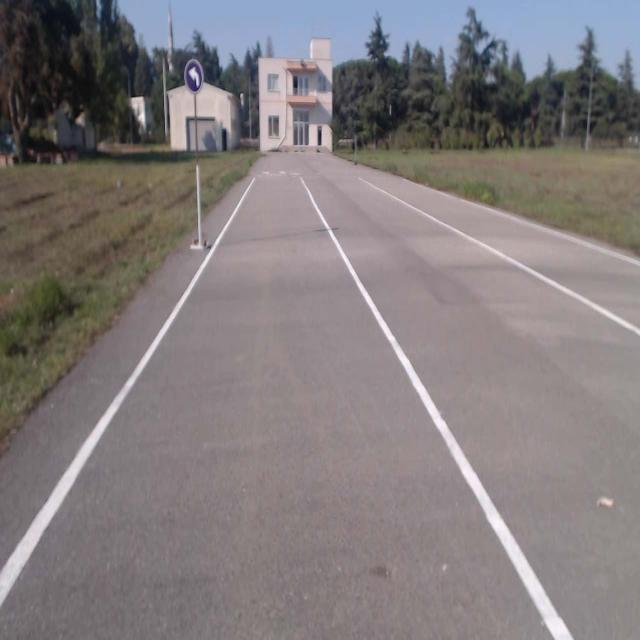sol: (185, 59, 203, 93)
